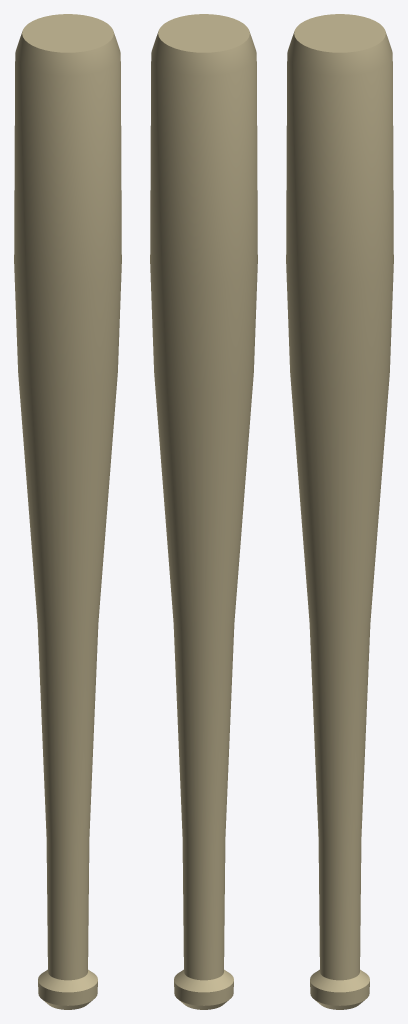
Rendered from BaseballBat.fbx.
3 views of the same model, side by side, from view 1: azimuth 90°, elevation 25°; view 2: azimuth 210°, elevation 25°; view 3: azimuth 270°, elevation 25° (orthographic).
Visible parts, largest first — view 1: BaseballBat; view 2: BaseballBat; view 3: BaseballBat.
Part boxes in pixels (bbox=[...]): BaseballBat: bbox=[14, 14, 121, 1009]; BaseballBat: bbox=[150, 14, 257, 1009]; BaseballBat: bbox=[286, 14, 393, 1009].
Size of the model in its own units: 8.48 by 83.99 by 8.48.
